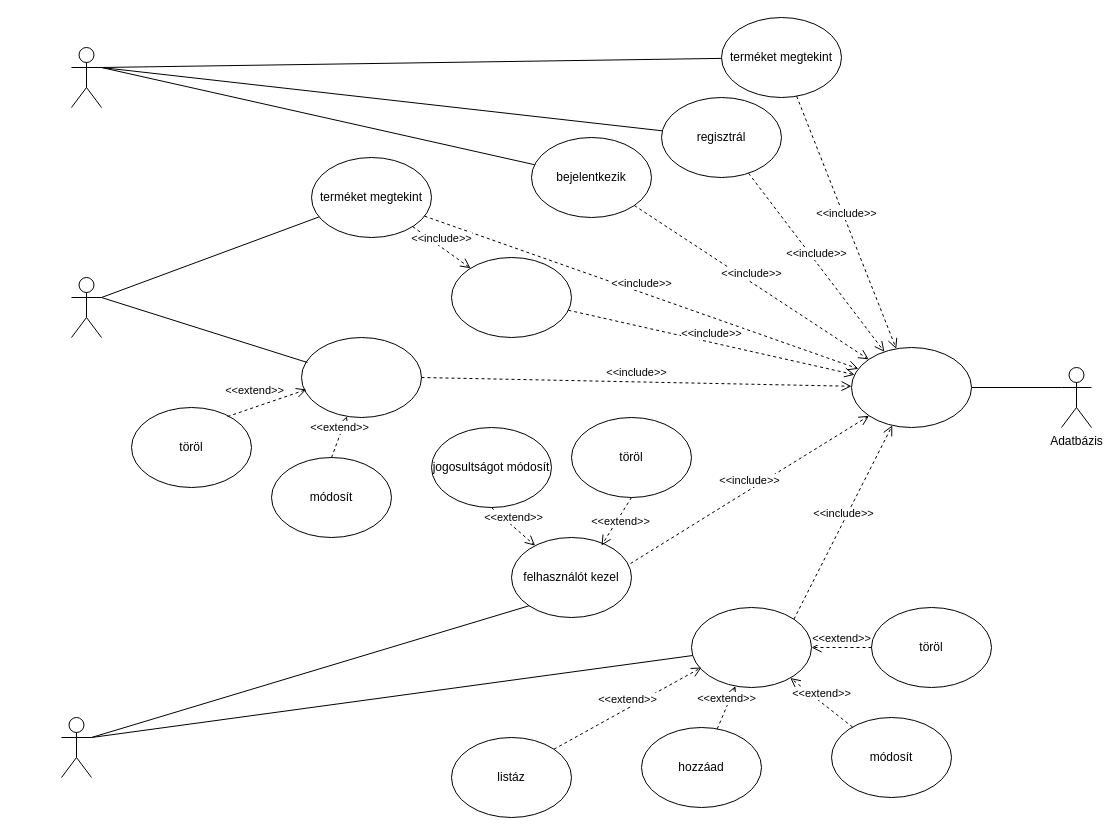
This 1120x835 diagram has some shape labels left out. Each missing label, with the box of its shape:
adatok kezelése: (850, 346, 972, 428)
Admin felhasználó: (60, 716, 92, 778)
Bejelentkezett felhasználó: (70, 276, 102, 338)
Látogató: (70, 46, 102, 108)
saját adatokat kezel: (300, 336, 422, 418)
terméket kezel: (690, 606, 812, 688)
terméket kosárba tesz: (450, 256, 572, 338)
